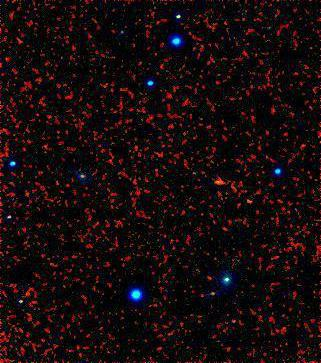star: (206, 166, 236, 196)
